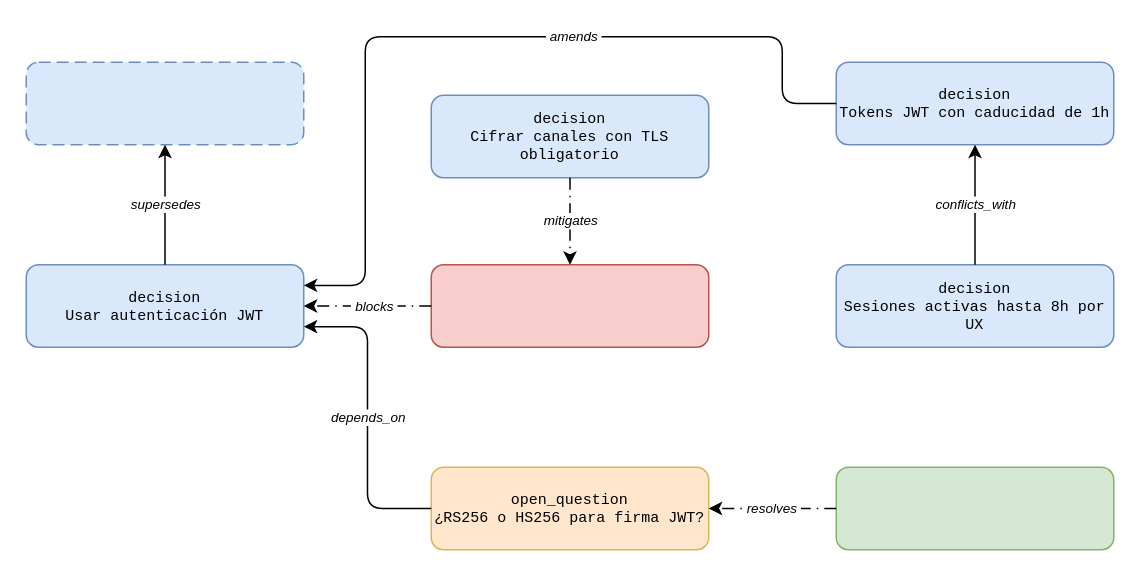
Some shapes in this 1140 by 576 pixel diagram are drawn without their labels. Here are the shapes that lost their labels. From the top down, the centre of each, then its label:
At pixel 164 103: "decision Usar autenticación por sesión".
At pixel 569 305: "risk JWT filtrado si canal no cifrado".
At pixel 974 508: "action_item Proponer RFC sobre algoritmo de firma".
